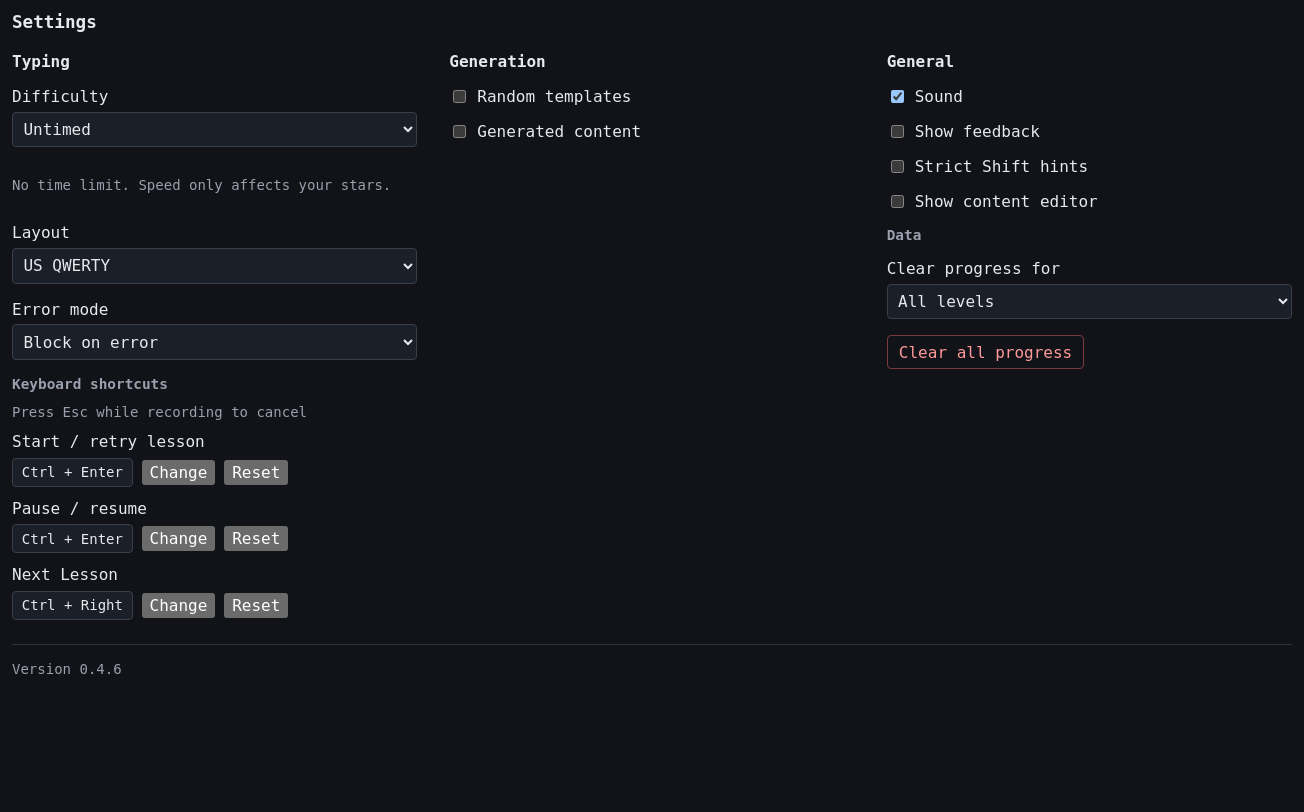
it: SettingsPanel shortcuts › rejects a browser-reserved combination
Click the button "Change" below "Start / retry lesson" at (178, 472), box [142,460,215,485]
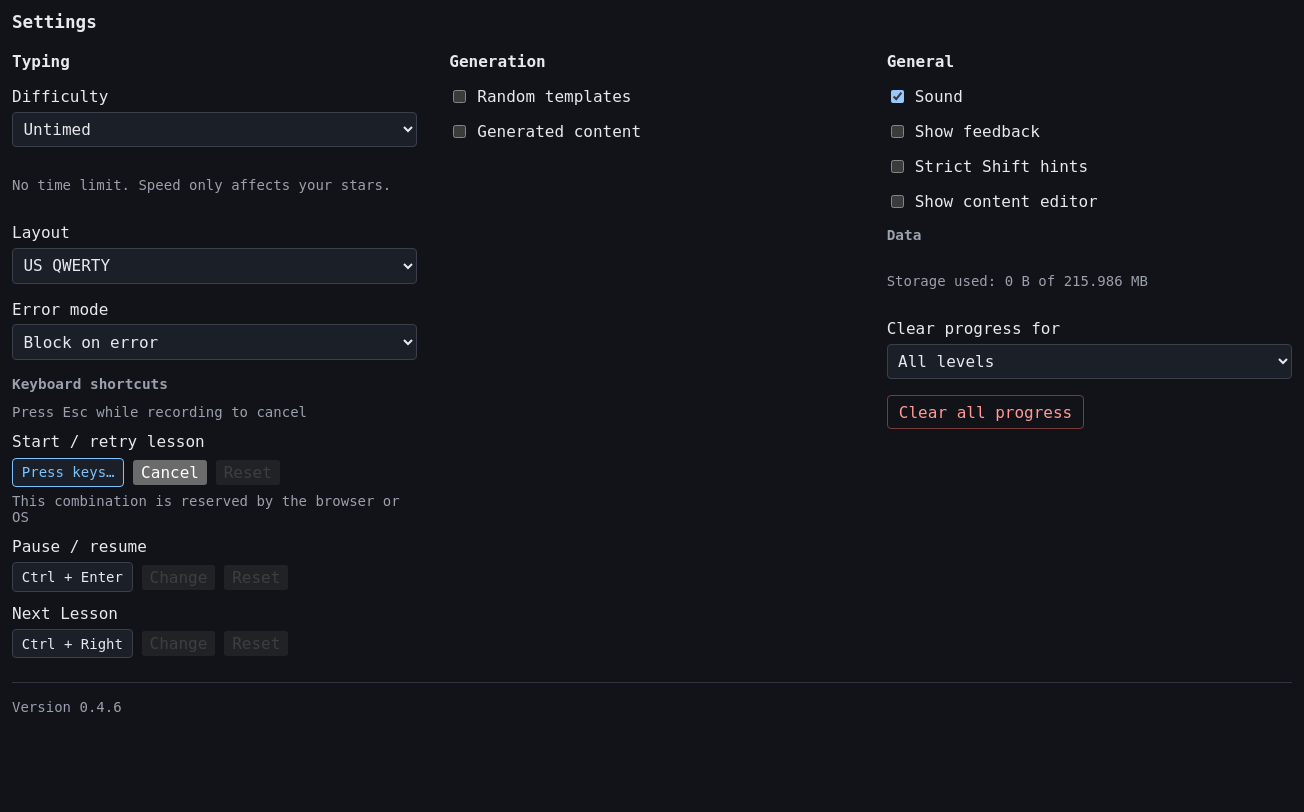
Result: the message "This combination is reserved by the browser or OS" is shown at [12,493,417,525]
